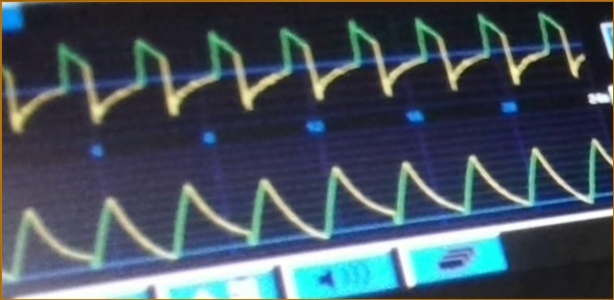Accumulation Flow: (4, 6, 587, 129)
Volume: (4, 138, 603, 283)
